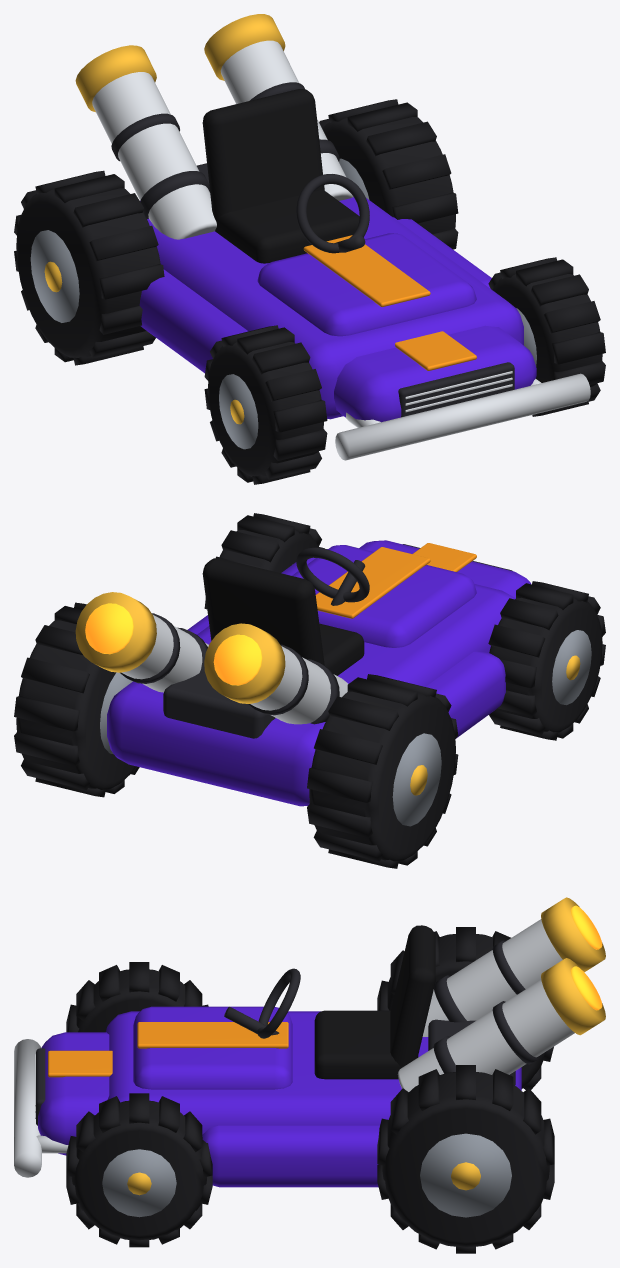
The model's file is rocket-kart.glb.
3 views of the same model, one above another, from view 1: azimuth 30°, elevation 25°; view 2: azimuth 150°, elevation 25°; view 3: azimuth 270°, elevation 25° (orthographic). The views are drawn at different scales.
Parts seen in each view (by area): view 1: kart-body, wheel-back-left, wheel-front-left, wheel-back-right, wheel-front-right; view 2: kart-body, wheel-back-left, wheel-back-right, wheel-front-left, wheel-front-right; view 3: kart-body, wheel-back-right, wheel-front-right, wheel-front-left, wheel-back-left.
Part boxes in pixels (bbox=[...]): kart-body: bbox=[75, 14, 590, 460]; wheel-back-left: bbox=[14, 170, 164, 365]; wheel-front-left: bbox=[204, 325, 327, 484]; wheel-back-right: bbox=[319, 99, 458, 249]; wheel-front-right: bbox=[488, 257, 605, 416]; kart-body: bbox=[75, 540, 530, 806]; wheel-back-left: bbox=[307, 674, 458, 868]; wheel-back-right: bbox=[14, 602, 139, 797]; wheel-front-left: bbox=[488, 581, 605, 740]; wheel-front-right: bbox=[204, 513, 324, 609]; kart-body: bbox=[14, 897, 605, 1187]; wheel-back-right: bbox=[377, 1065, 554, 1253]; wheel-front-right: bbox=[66, 1093, 212, 1247]; wheel-front-left: bbox=[66, 962, 208, 1032]; wheel-back-left: bbox=[377, 927, 553, 1089].
Size of the model in its own units: 2.06 by 1.32 by 2.97.
